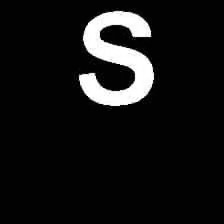LTR_S: (76, 7, 155, 111)
